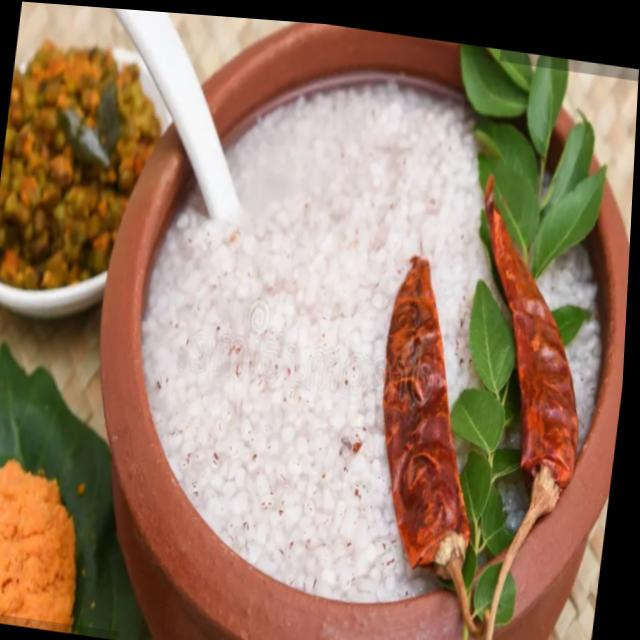PORRIDGE: (146, 86, 475, 598)
RED CHUTNEY: (0, 462, 75, 626)
VEGGIES: (0, 40, 159, 281)
